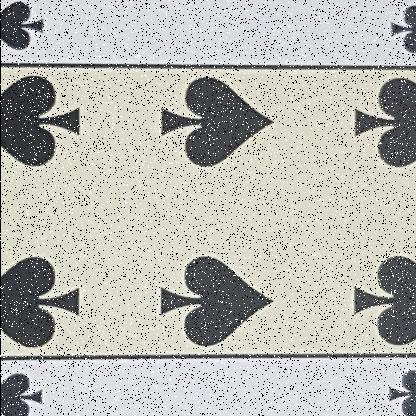6s: (1, 0, 60, 64), (350, 360, 415, 416), (1, 364, 60, 415), (372, 0, 415, 66)
